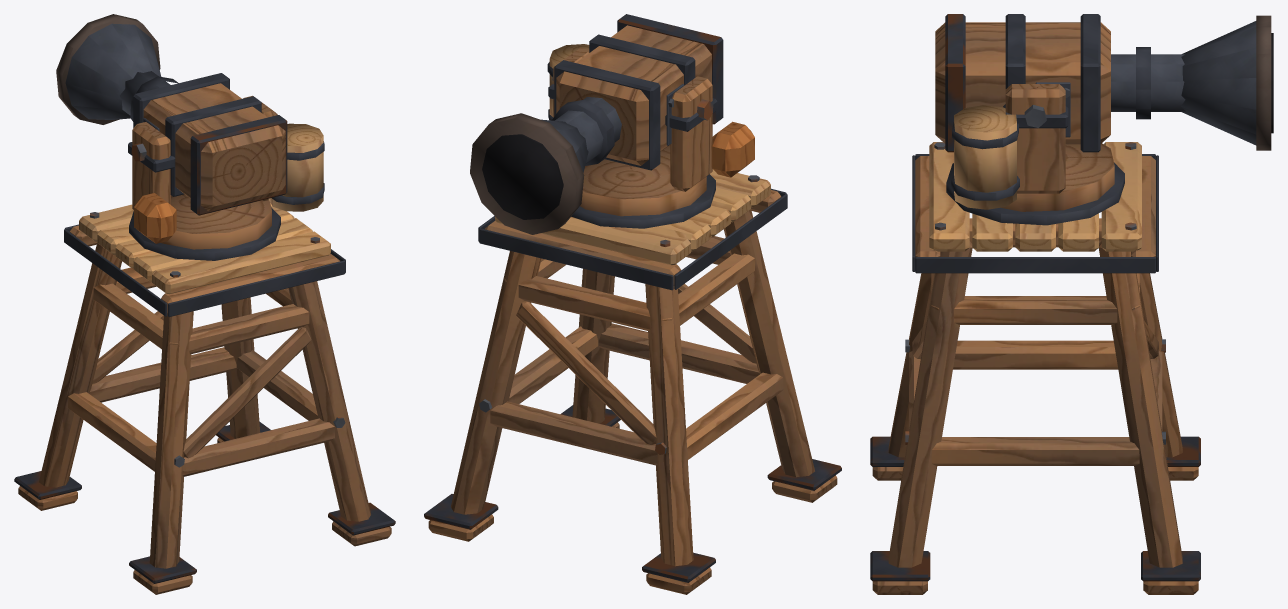
The model's file is sacma_kulesi.glb.
The picture shows the model from 3 angles, left to right: view 1: azimuth 30°, elevation 25°; view 2: azimuth 150°, elevation 25°; view 3: azimuth 270°, elevation 25°; orthographic projection. The views are drawn at different scales.
Parts seen in each view (by area): view 1: sacma_kulesi, head; view 2: sacma_kulesi, head; view 3: sacma_kulesi, head.
Boxes of the visible parts, <box> form: sacma_kulesi: <box>14,203,395,594</box>; head: <box>56,14,324,260</box>; sacma_kulesi: <box>424,169,841,594</box>; head: <box>470,14,754,234</box>; sacma_kulesi: <box>870,142,1200,594</box>; head: <box>935,14,1273,225</box>.
Bounding box in the file's own units: 1.32 × 2.25 × 1.61.
Materials: 1 (1 with a texture image).
